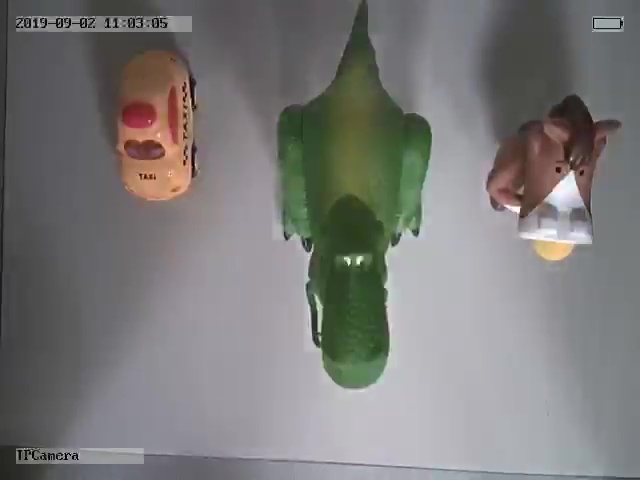car: (114, 46, 200, 202)
horse: (486, 94, 622, 260)
rex: (273, 3, 433, 391)
